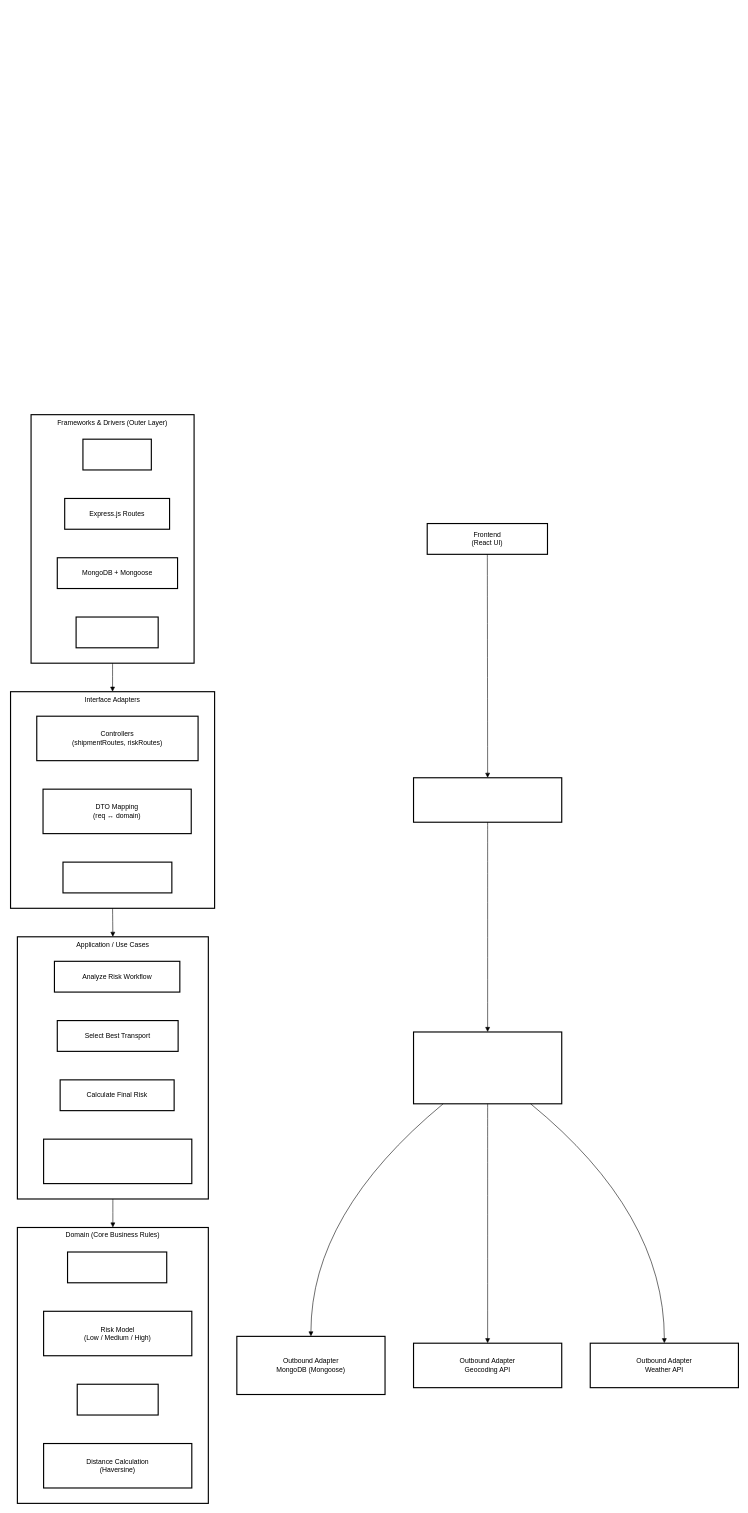
The diagram is 748 pixels wide and 1513 high, and some of its shapes have lost their labels. The shapes that lost their labels are listed below. From the top down, each one's centre as x and y in pixels, then its label:
(117,454): React UI
(116,632): Leaflet Map
(487,800): Inbound Adapters Express Controllers
(117,877): Axios API Adapters
(487,1067): Application Core Risk Evaluation Transport Selection ETA & Delay Calculation
(117,1161): Geocode Service Orchestration
(117,1267): Shipment Entity
(117,1399): Delay Logic
